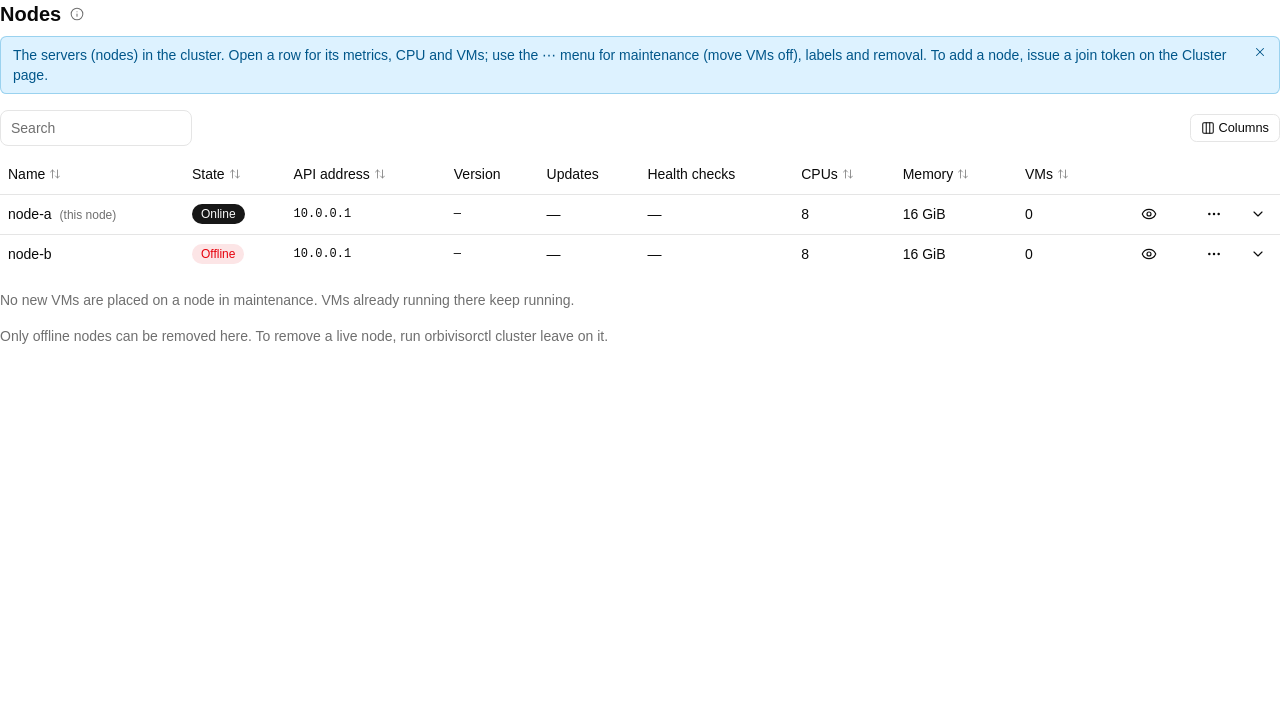
Test: removes only offline nodes, after typing the name
This screenshot has width=1280, height=720.
Click the button named "Actions for node-a" at [1214, 214], box [1200,200,1228,228]
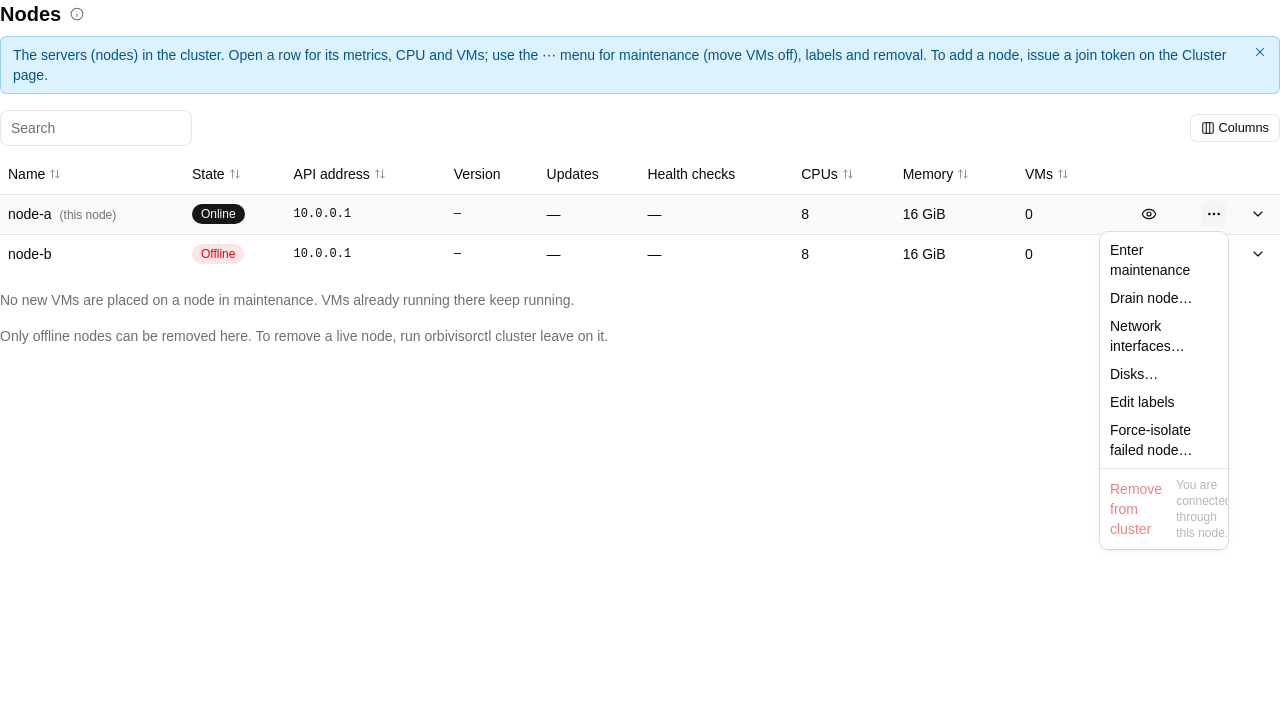
Press Escape
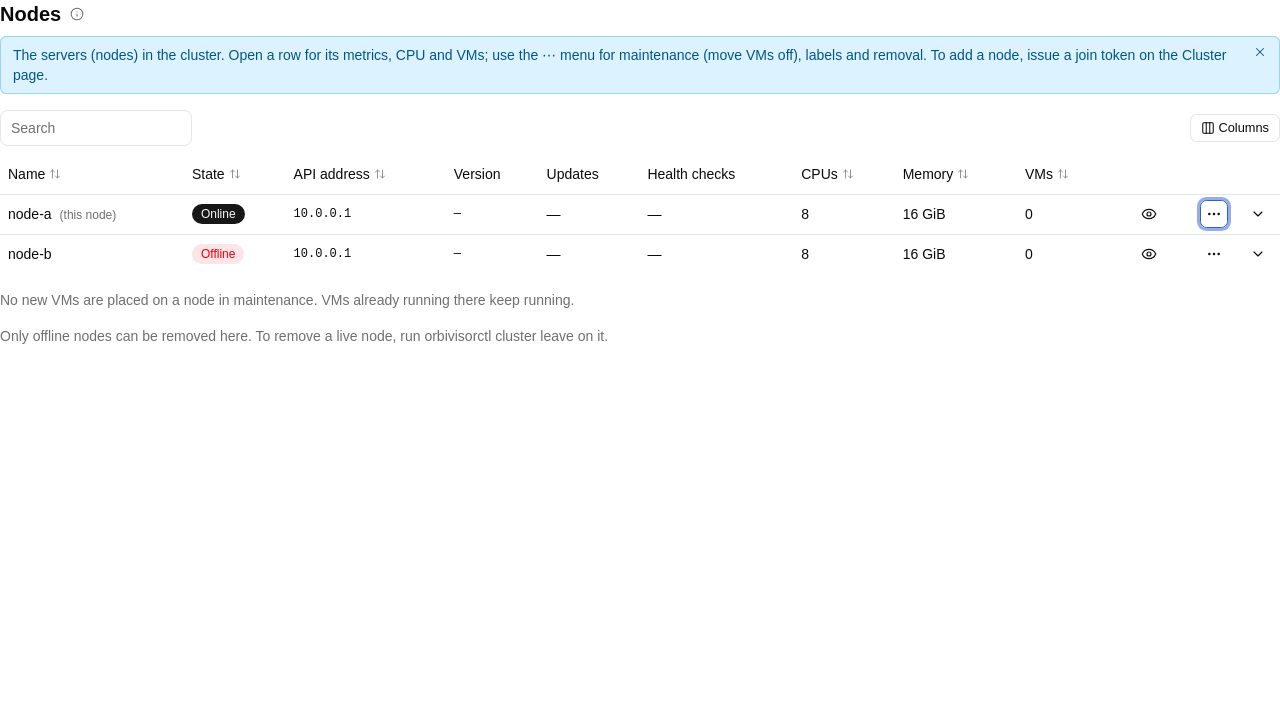
Click the button named "Actions for node-b" at [1214, 254], box [1200,240,1228,268]
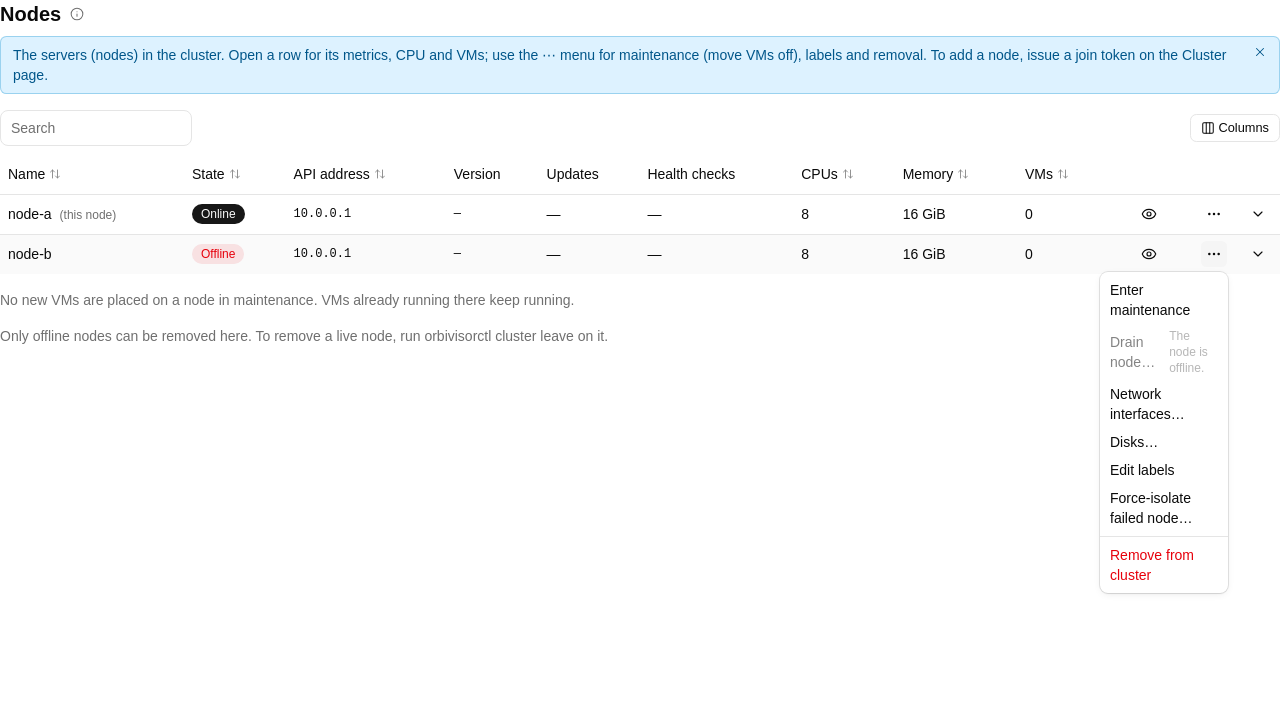
Click the menu item "Remove from cluster" at [1152, 565], box [1110,547,1194,583]
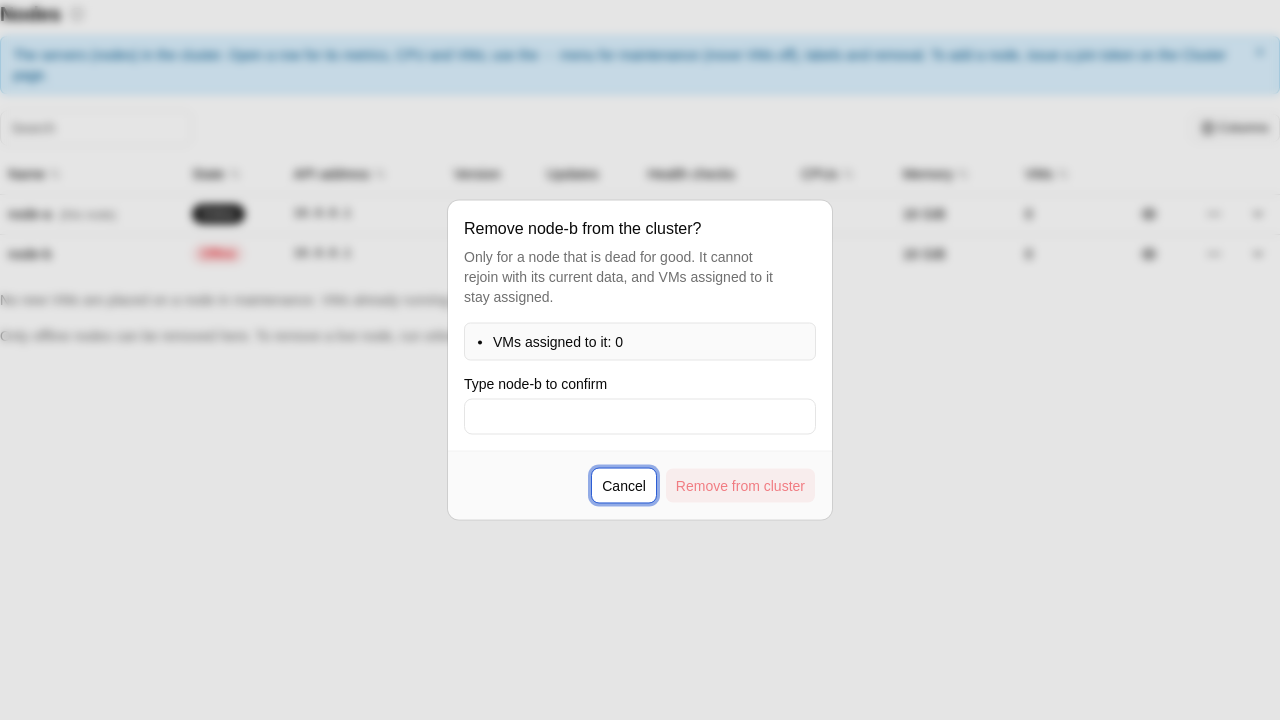
Expected: the button "Remove from cluster" is disabled, [665,468,816,504]
Type "node-b" into the field labelled "Type node-b to confirm" at [640, 416], box [464,398,816,434]
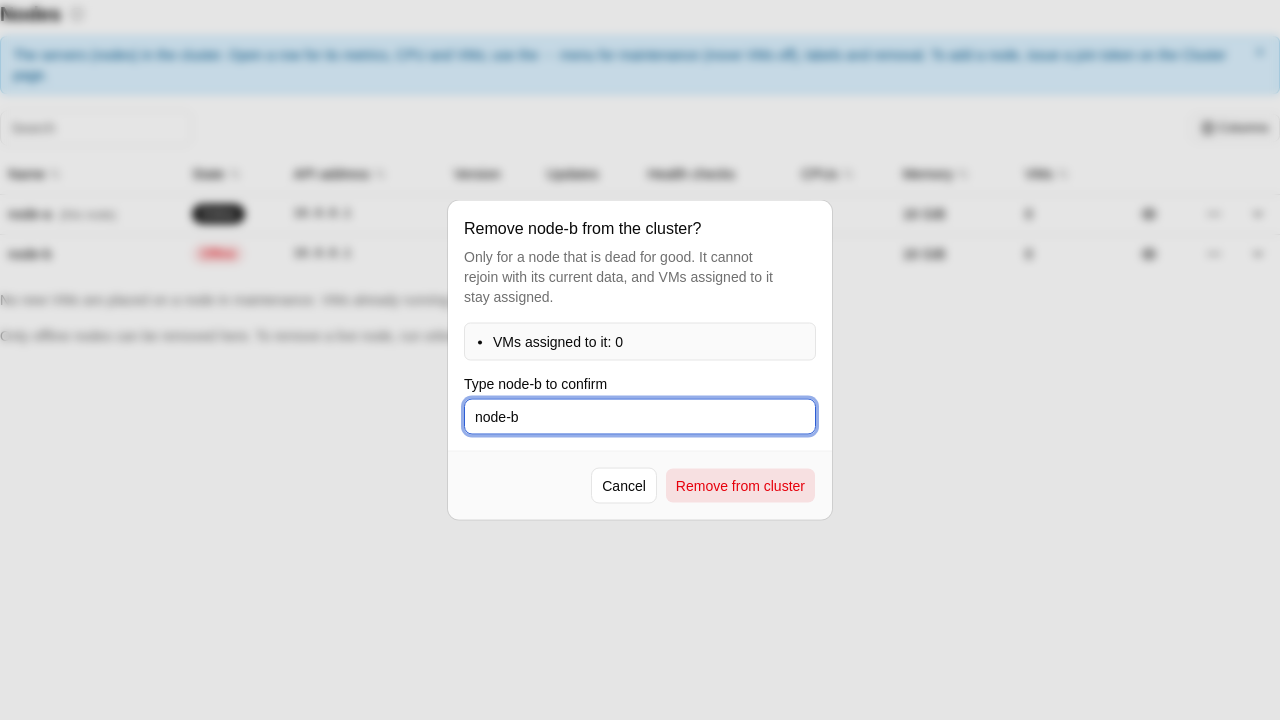
Click the button "Remove from cluster" at [740, 486], box [665,468,816,504]
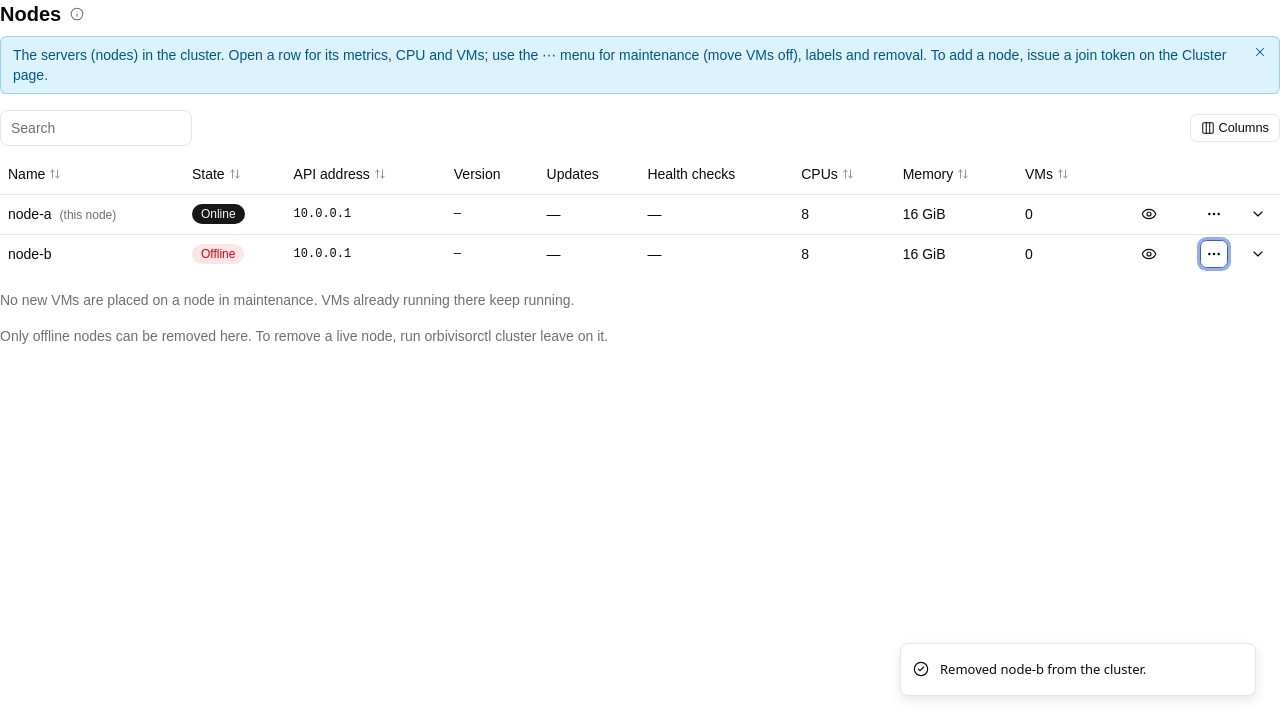
Expected: the text "Removed node-b from the cluster." is shown, [940,660,1146,679]
